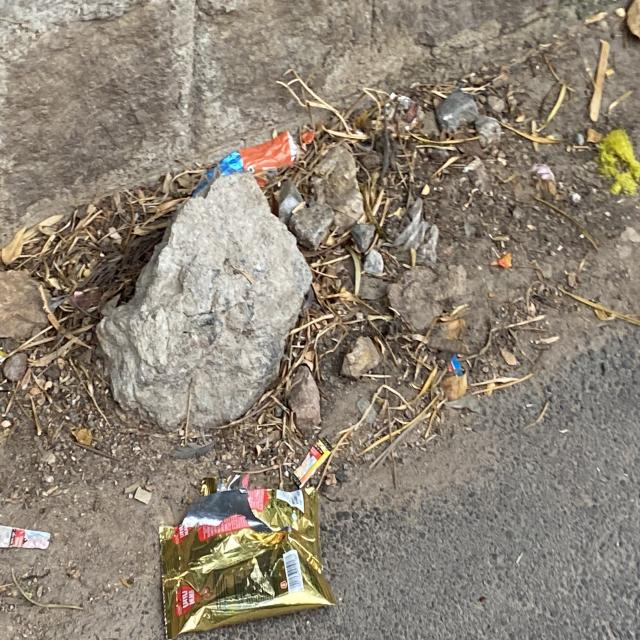giay_goi: (158, 478, 335, 639), (191, 129, 297, 196)
